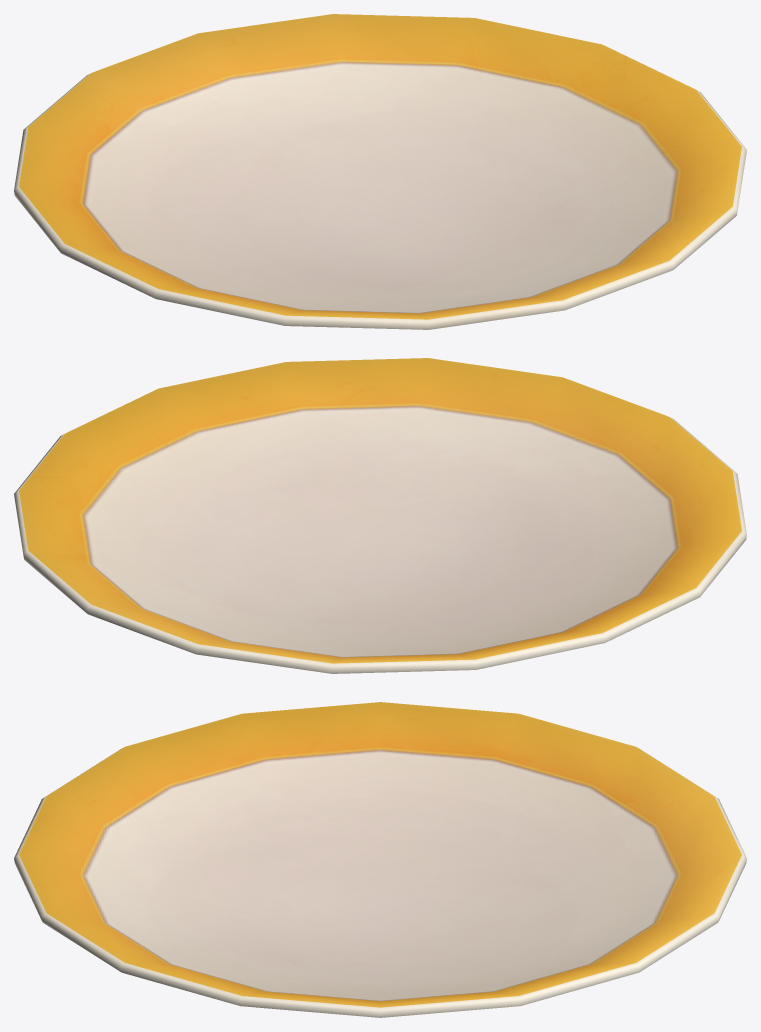
The model's file is SE_Plate_01.fbx.
3 views of the same model, one above another, from view 1: azimuth 30°, elevation 25°; view 2: azimuth 150°, elevation 25°; view 3: azimuth 270°, elevation 25° (orthographic).
Visible parts, largest first — view 1: SE_Plate_01; view 2: SE_Plate_01; view 3: SE_Plate_01.
Part boxes in pixels (x1,y1,x2,y2): SE_Plate_01: [14, 14, 746, 329]; SE_Plate_01: [14, 358, 746, 673]; SE_Plate_01: [14, 702, 746, 1017].
Bounding box in the file's own units: 2.87 × 0.3672 × 2.87.
